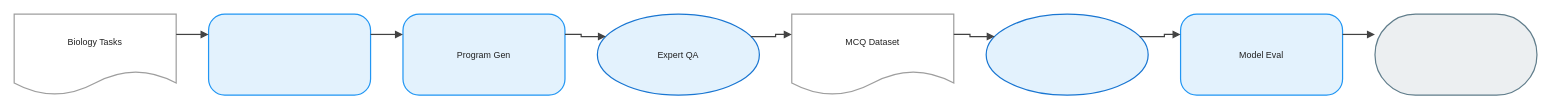
Image size: 1552x110. Some labels were removed from this diagram. Here are the shapes that lost their labels. From the top down, the centre of each, then its label:
At (x=289, y=54): "Proto Seeds".
At (x=1066, y=54): "Human Baseline".
At (x=1455, y=54): "Scores".
